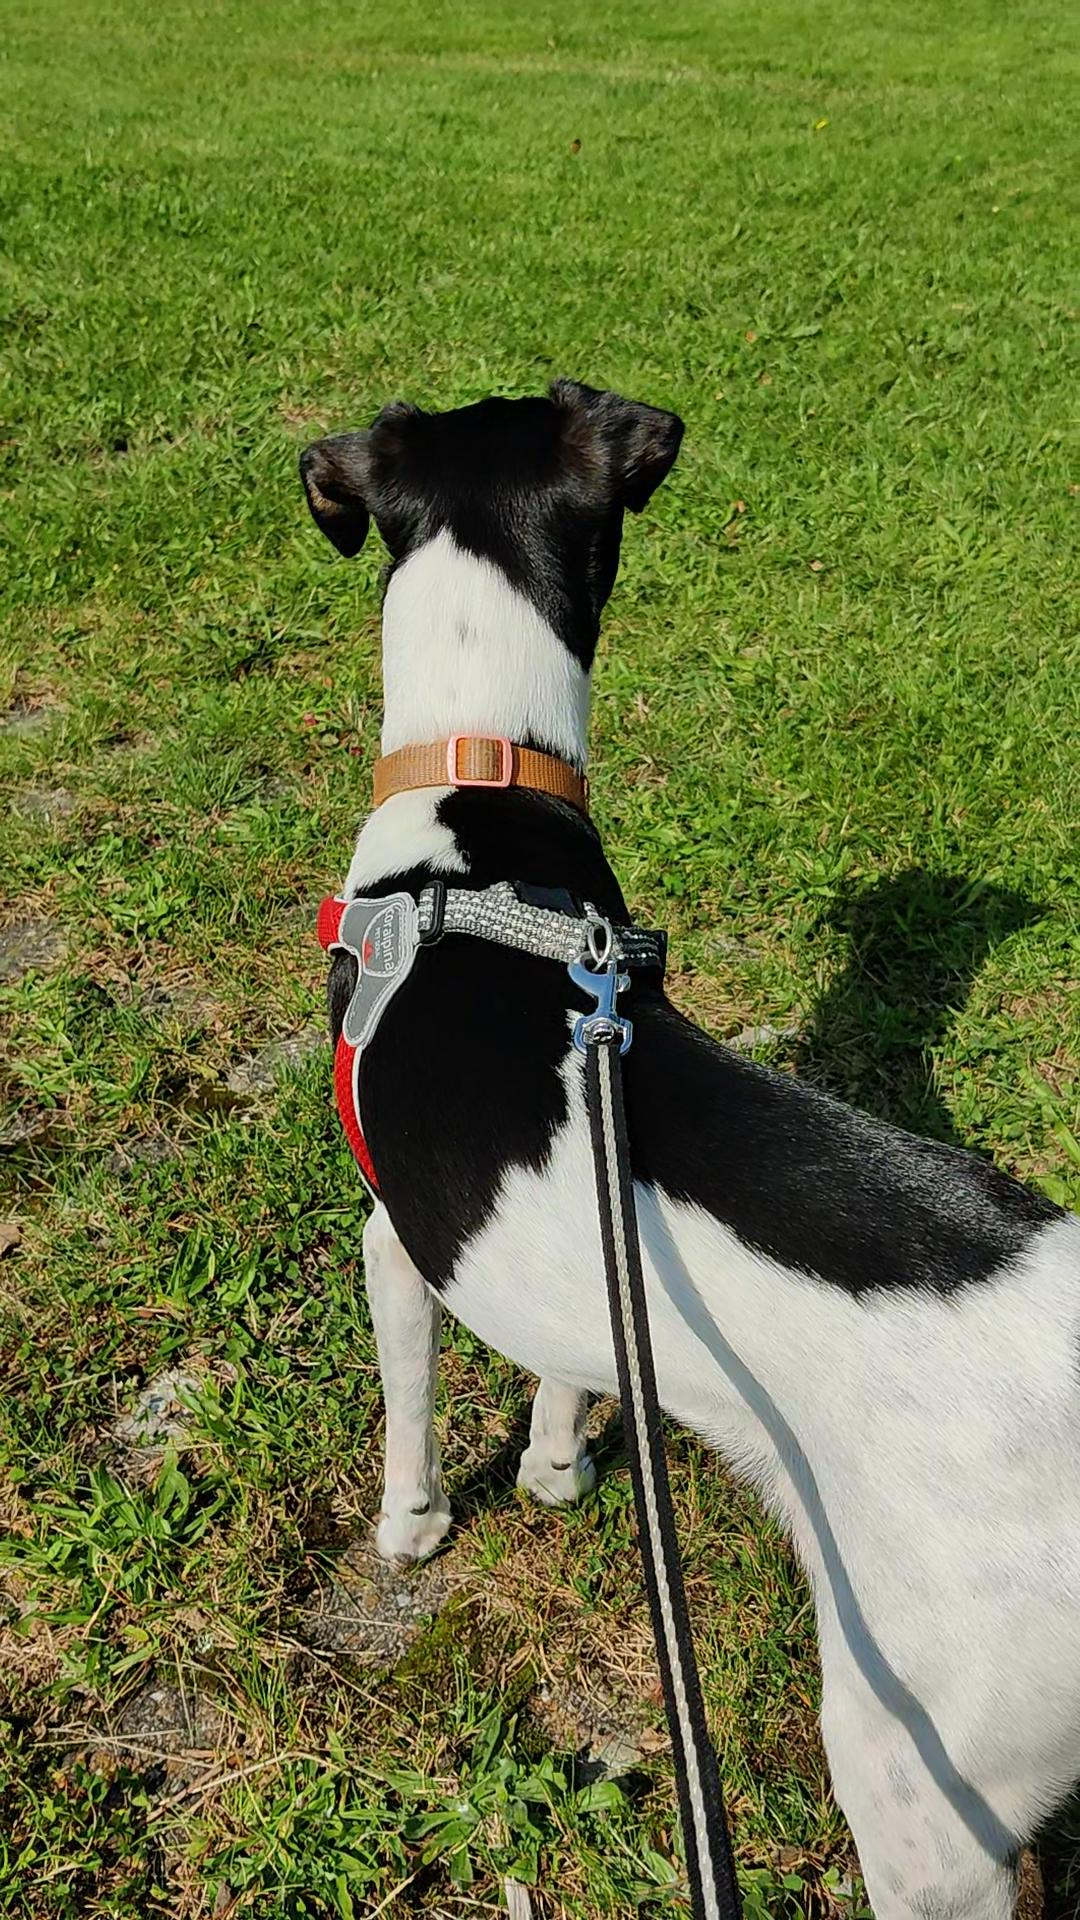Dog: (228, 360, 1079, 1919)
